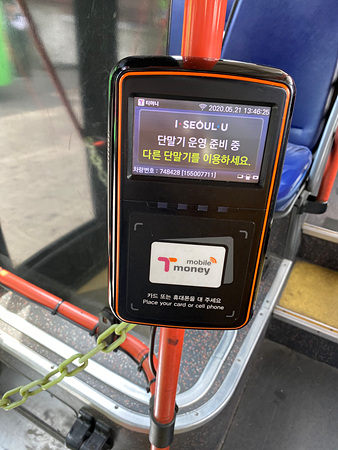terminal: (108, 56, 257, 325)
